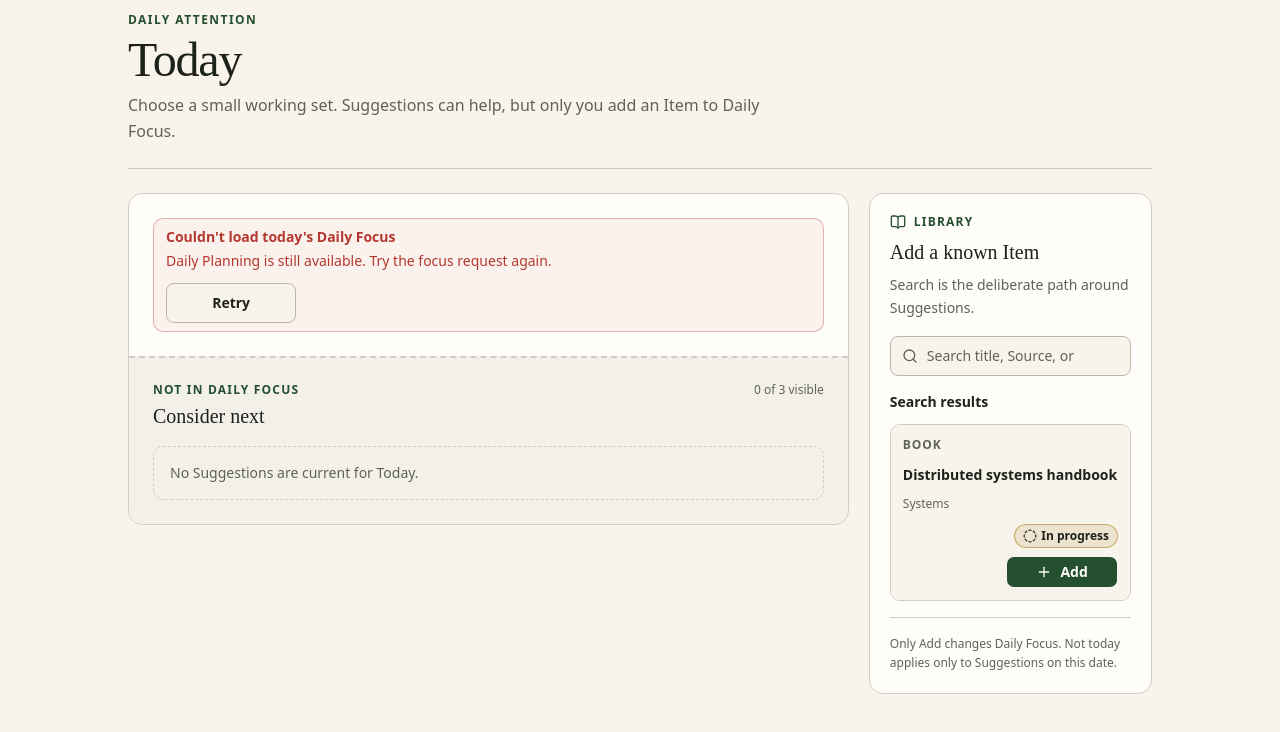
Test: Today room › contains a Daily Focus failure without discarding Daily Planning
The image size is (1280, 732).
Expected: the text "Couldn't load today's Daily Focus" is shown, [166,227,396,246]
Expected: the element named "Item search results" shows "Distributed systems handbook", [903,464,1117,484]
What coordinates should you click on to do the following:
click the button "Retry"
I would click on:
 (231, 303)
Its box is [166,283,296,323].
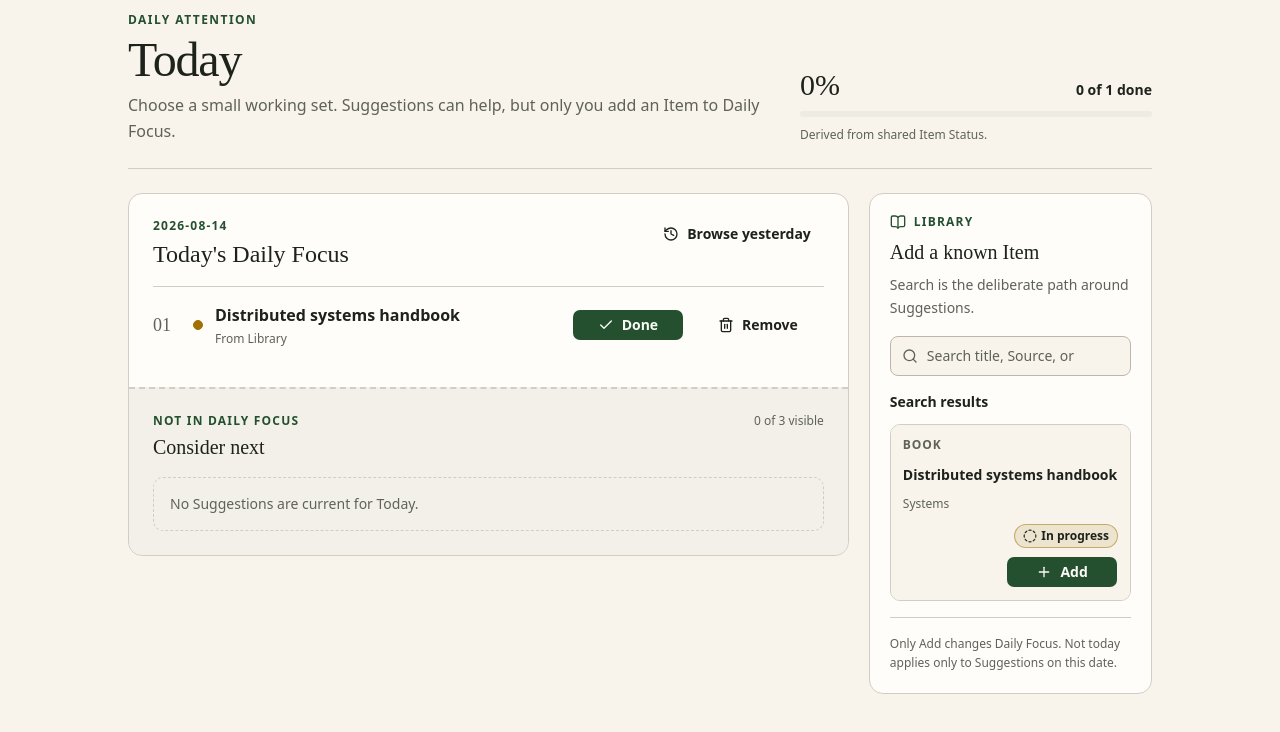
Expected: the element named "Item search results" shows "Distributed systems handbook", [903,464,1117,484]
Expected: the link "Distributed systems handbook" next to "01" is shown, [215,304,460,326]
